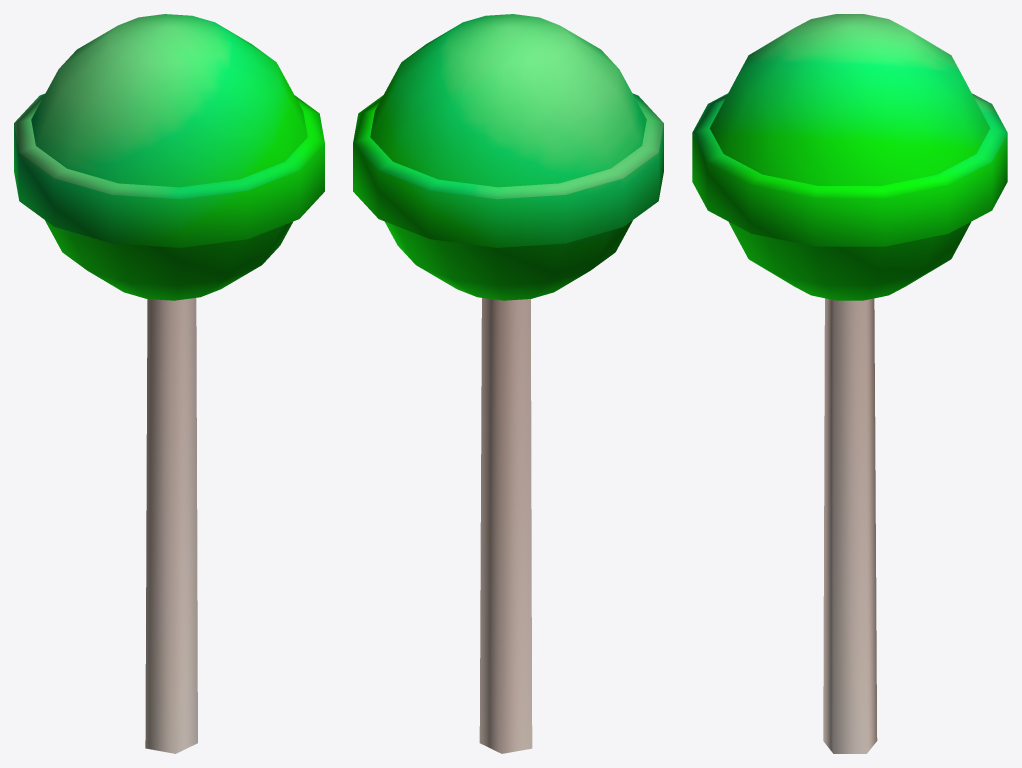
The model's file is lollipop.fbx.
3 renders of one model, left to right at view 1: azimuth 30°, elevation 25°; view 2: azimuth 150°, elevation 25°; view 3: azimuth 270°, elevation 25°, orthographic.
Parts seen in each view (by area): view 1: lollipop; view 2: lollipop; view 3: lollipop.
Part boxes in pixels (bbox=[...]): lollipop: bbox=[14, 14, 324, 753]; lollipop: bbox=[353, 14, 663, 753]; lollipop: bbox=[692, 14, 1007, 753].
Bounding box in the file's own units: 3.47 × 8.94 × 3.56.
